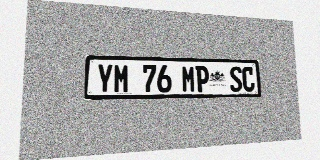6: (157, 65, 172, 93)
7: (142, 65, 157, 93)
C: (242, 67, 255, 92)
M: (113, 64, 129, 93), (181, 65, 196, 92)
P: (195, 66, 209, 92)
S: (229, 66, 242, 92)
Y: (96, 64, 113, 93)
